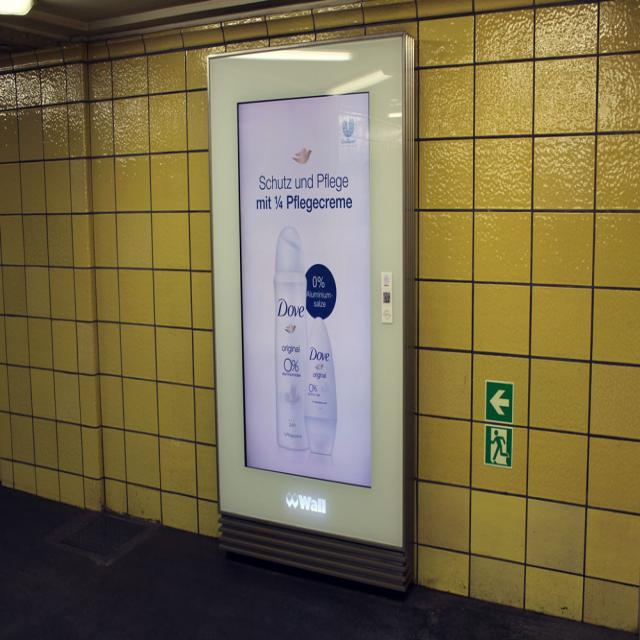Werbetafel frei: (208, 38, 413, 595)
